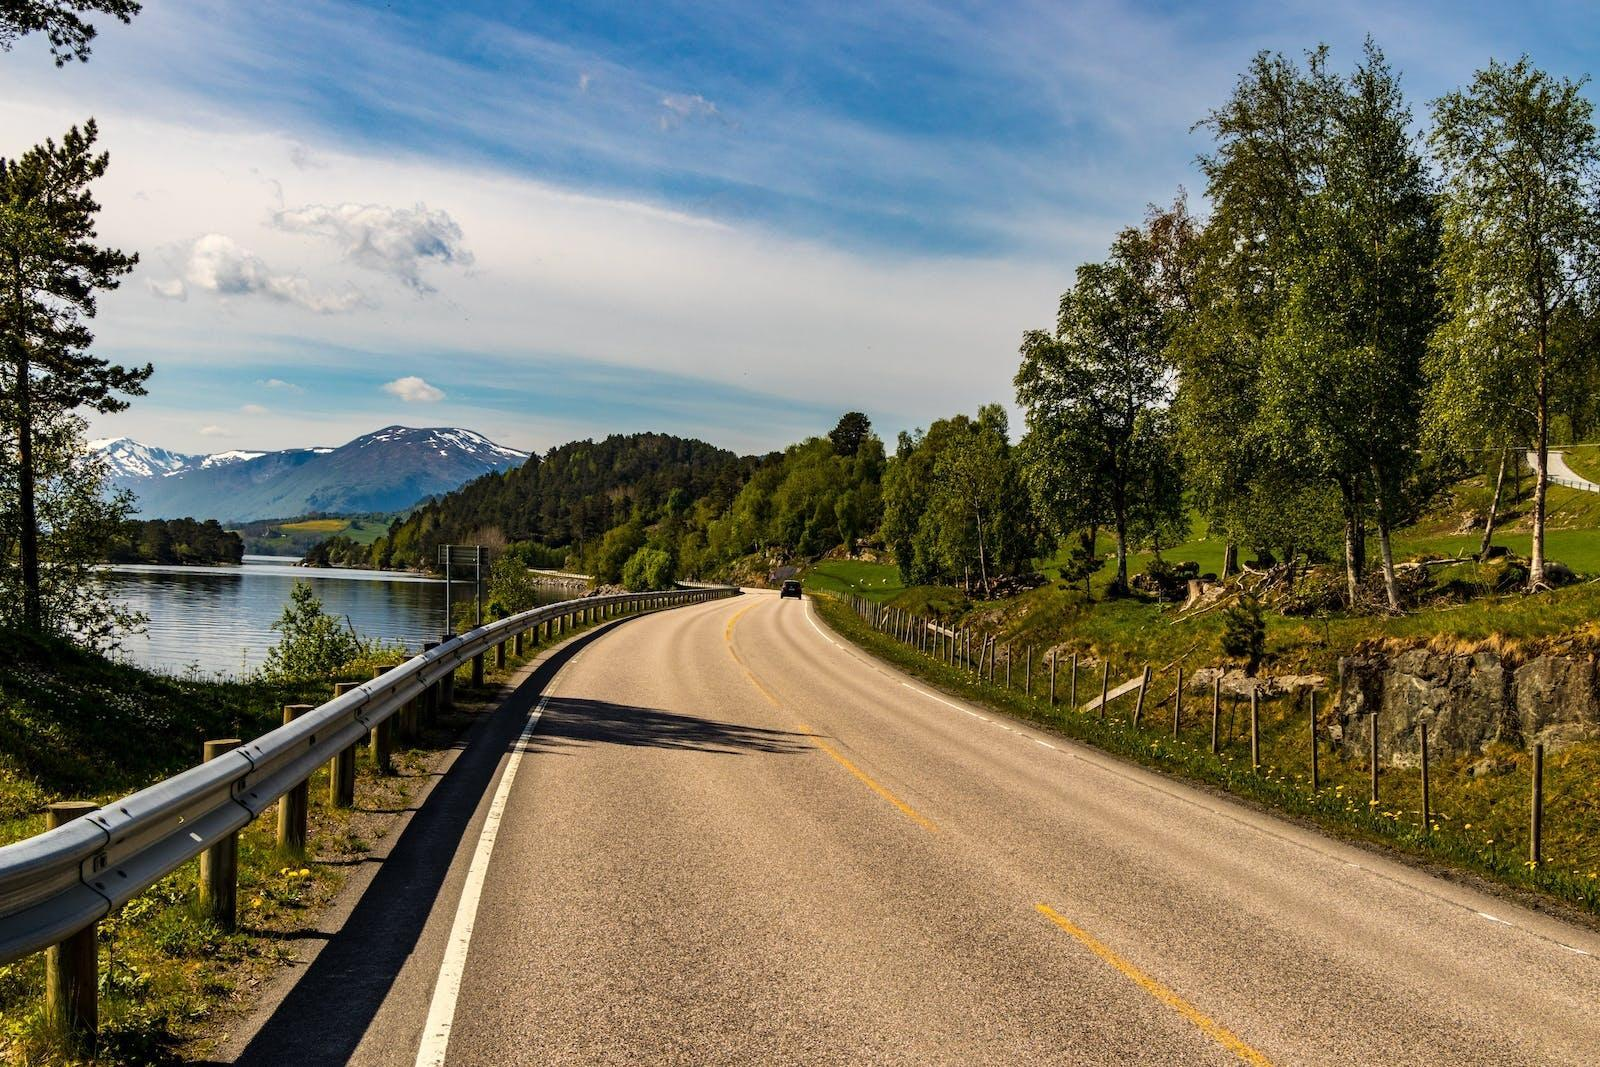field: (807, 562, 1599, 916)
road: (351, 591, 1599, 1065)
